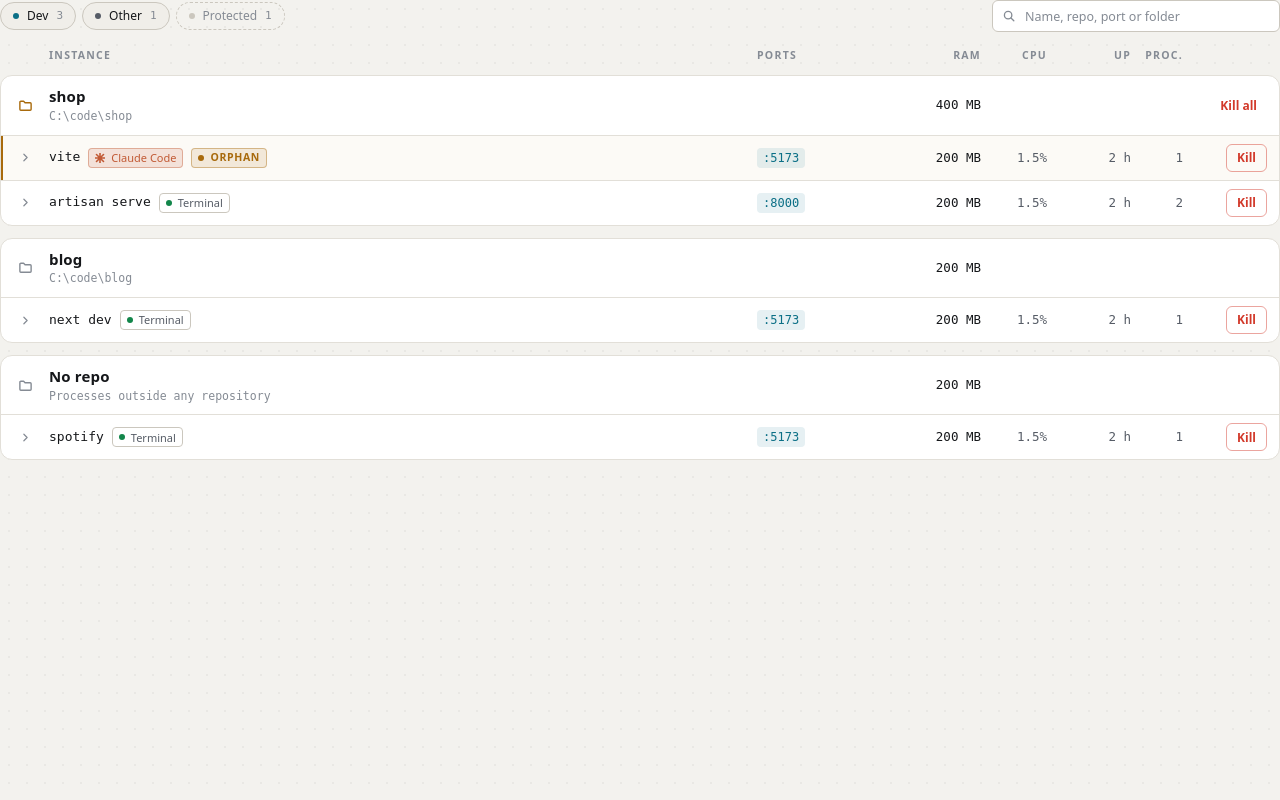
ProjectsView › "Kill all" sends every killable instance of the repo and reports failures
This screenshot has width=1280, height=800.
Click the button with aria-label "Kill everything in shop" at [1239, 105], box [1210, 91, 1267, 119]
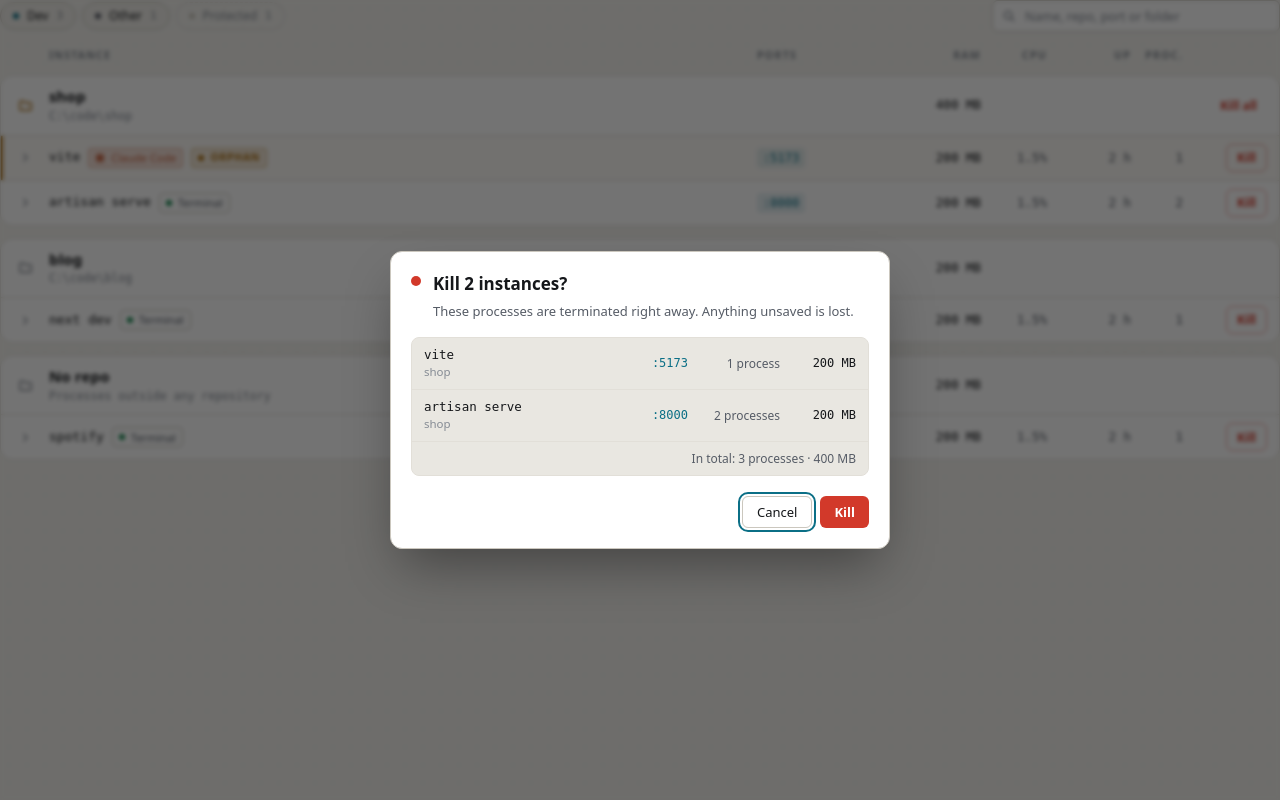
expect the heading reads "Kill 2 instances?": met, box [433, 272, 567, 295]
Click the button "Kill" at [845, 512], box [820, 496, 869, 528]
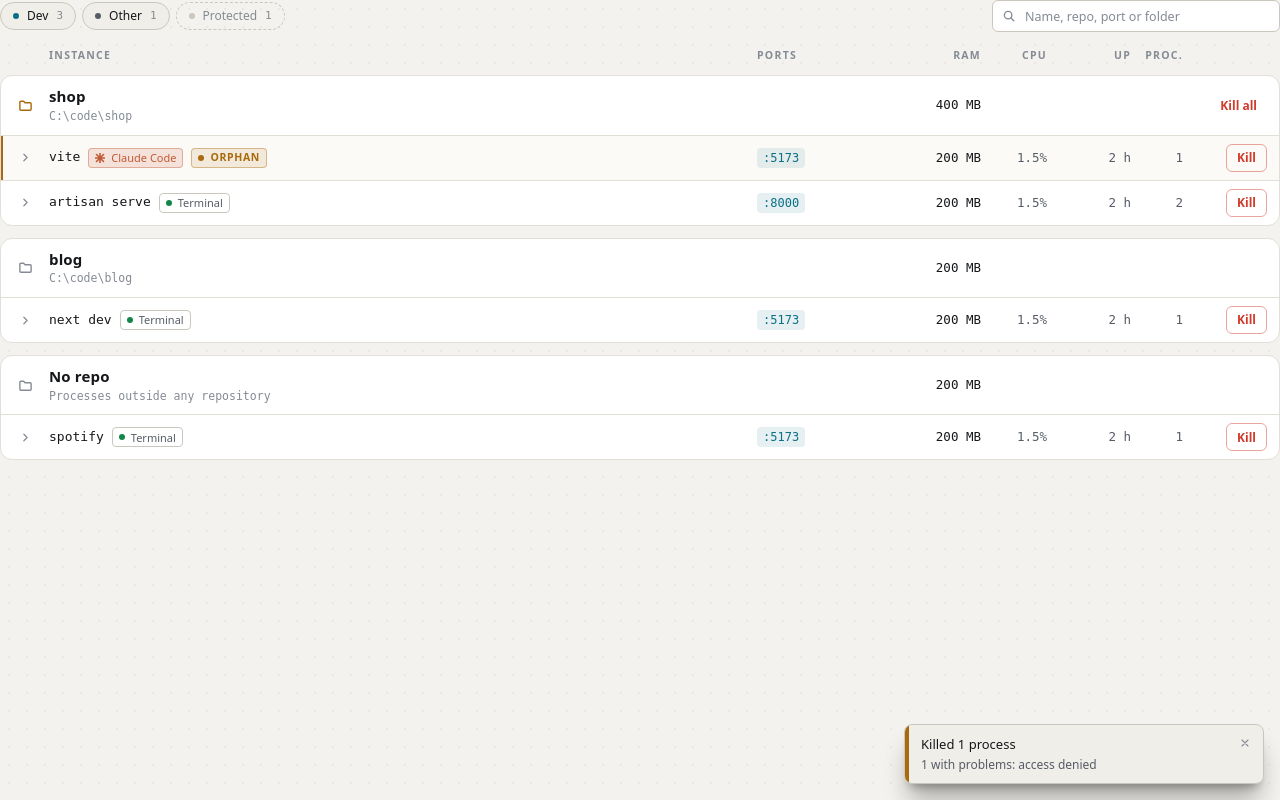
expect the text "1 with problems: access denied" is shown: met, box [921, 756, 1097, 773]
